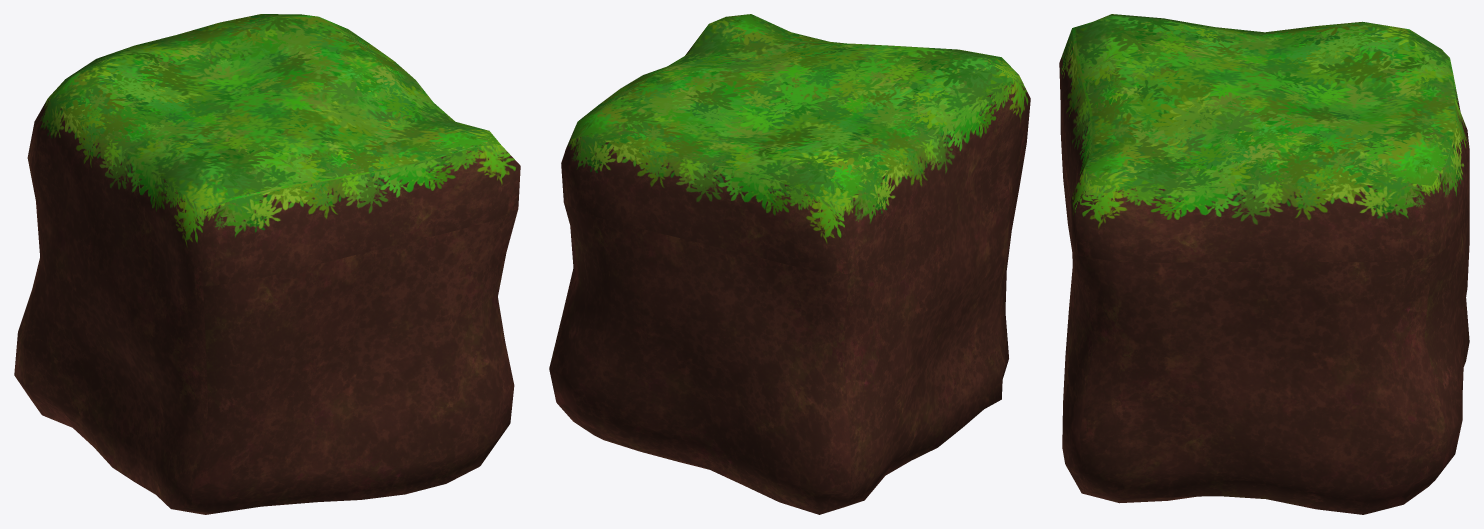
Rendered from Grass_Curvy_Model.fbx.
3 views of the same model, side by side, from view 1: azimuth 30°, elevation 25°; view 2: azimuth 150°, elevation 25°; view 3: azimuth 270°, elevation 25° (orthographic). The views are drawn at different scales.
Visible parts, largest first — view 1: grassGrass; view 2: grassGrass; view 3: grassGrass.
Part boxes in pixels (box(x1,y1,x2,y2)): grassGrass: box(14, 14, 520, 514); grassGrass: box(549, 14, 1030, 514); grassGrass: box(1059, 14, 1469, 514).
Size of the model in its own units: 11.09 by 11.12 by 11.26.
